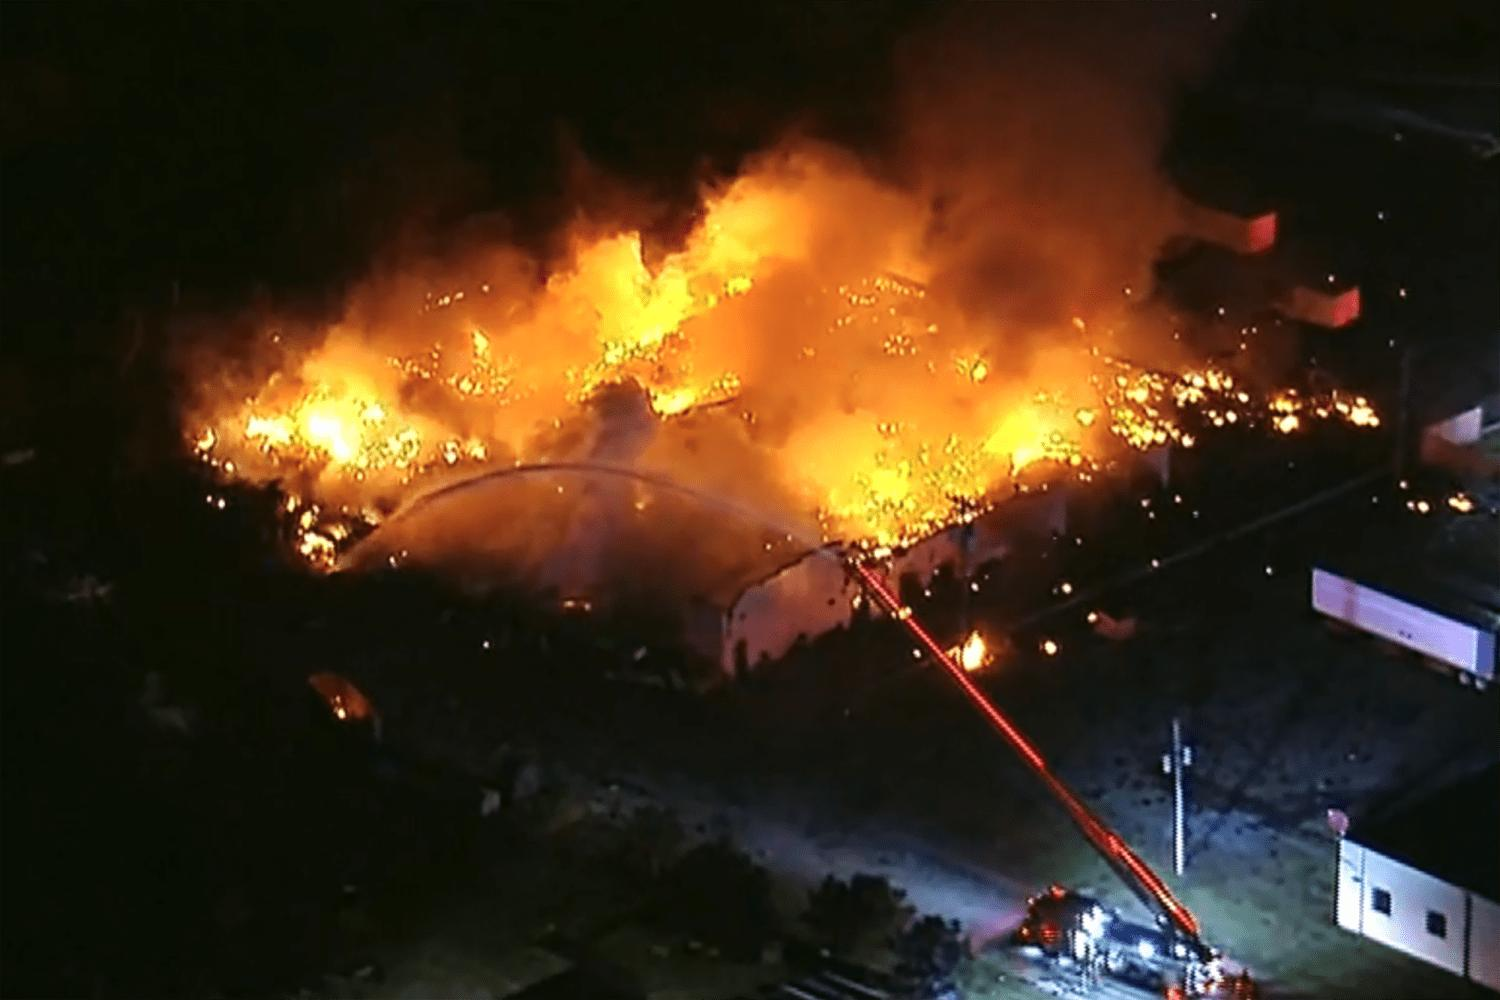fire: (564, 219, 1119, 554), (233, 321, 482, 531)
